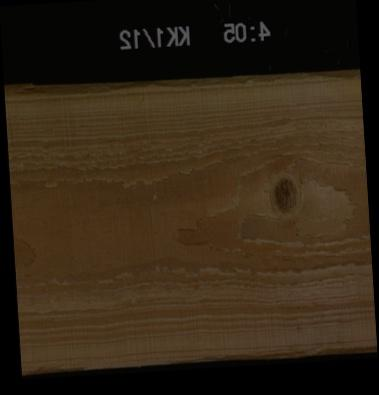sound_knot: (271, 175, 297, 212)
wave: (2, 68, 358, 91), (166, 347, 375, 361), (19, 364, 86, 373)
